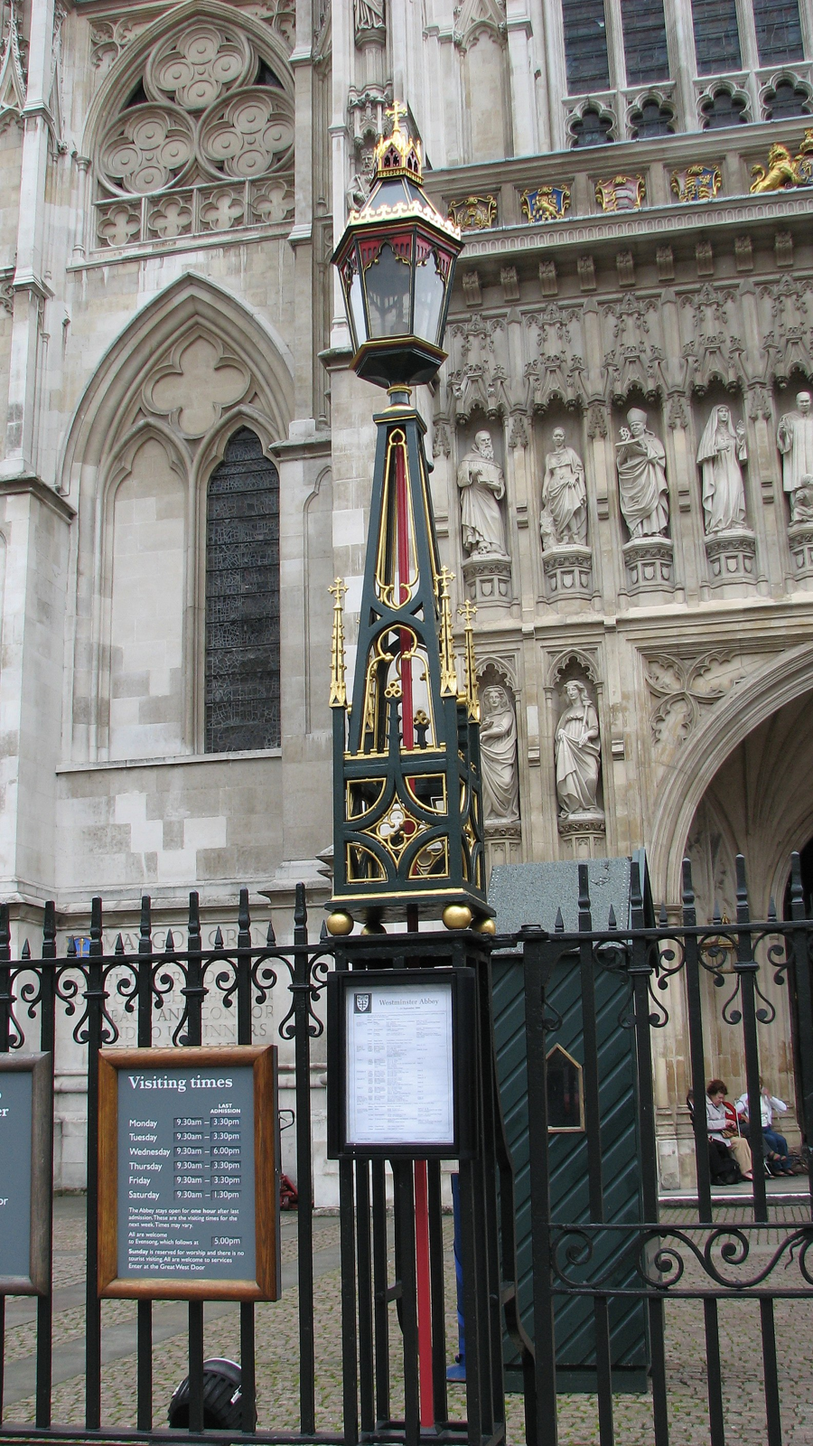fachada: (0, 5, 813, 931)
poste: (307, 122, 510, 949)
